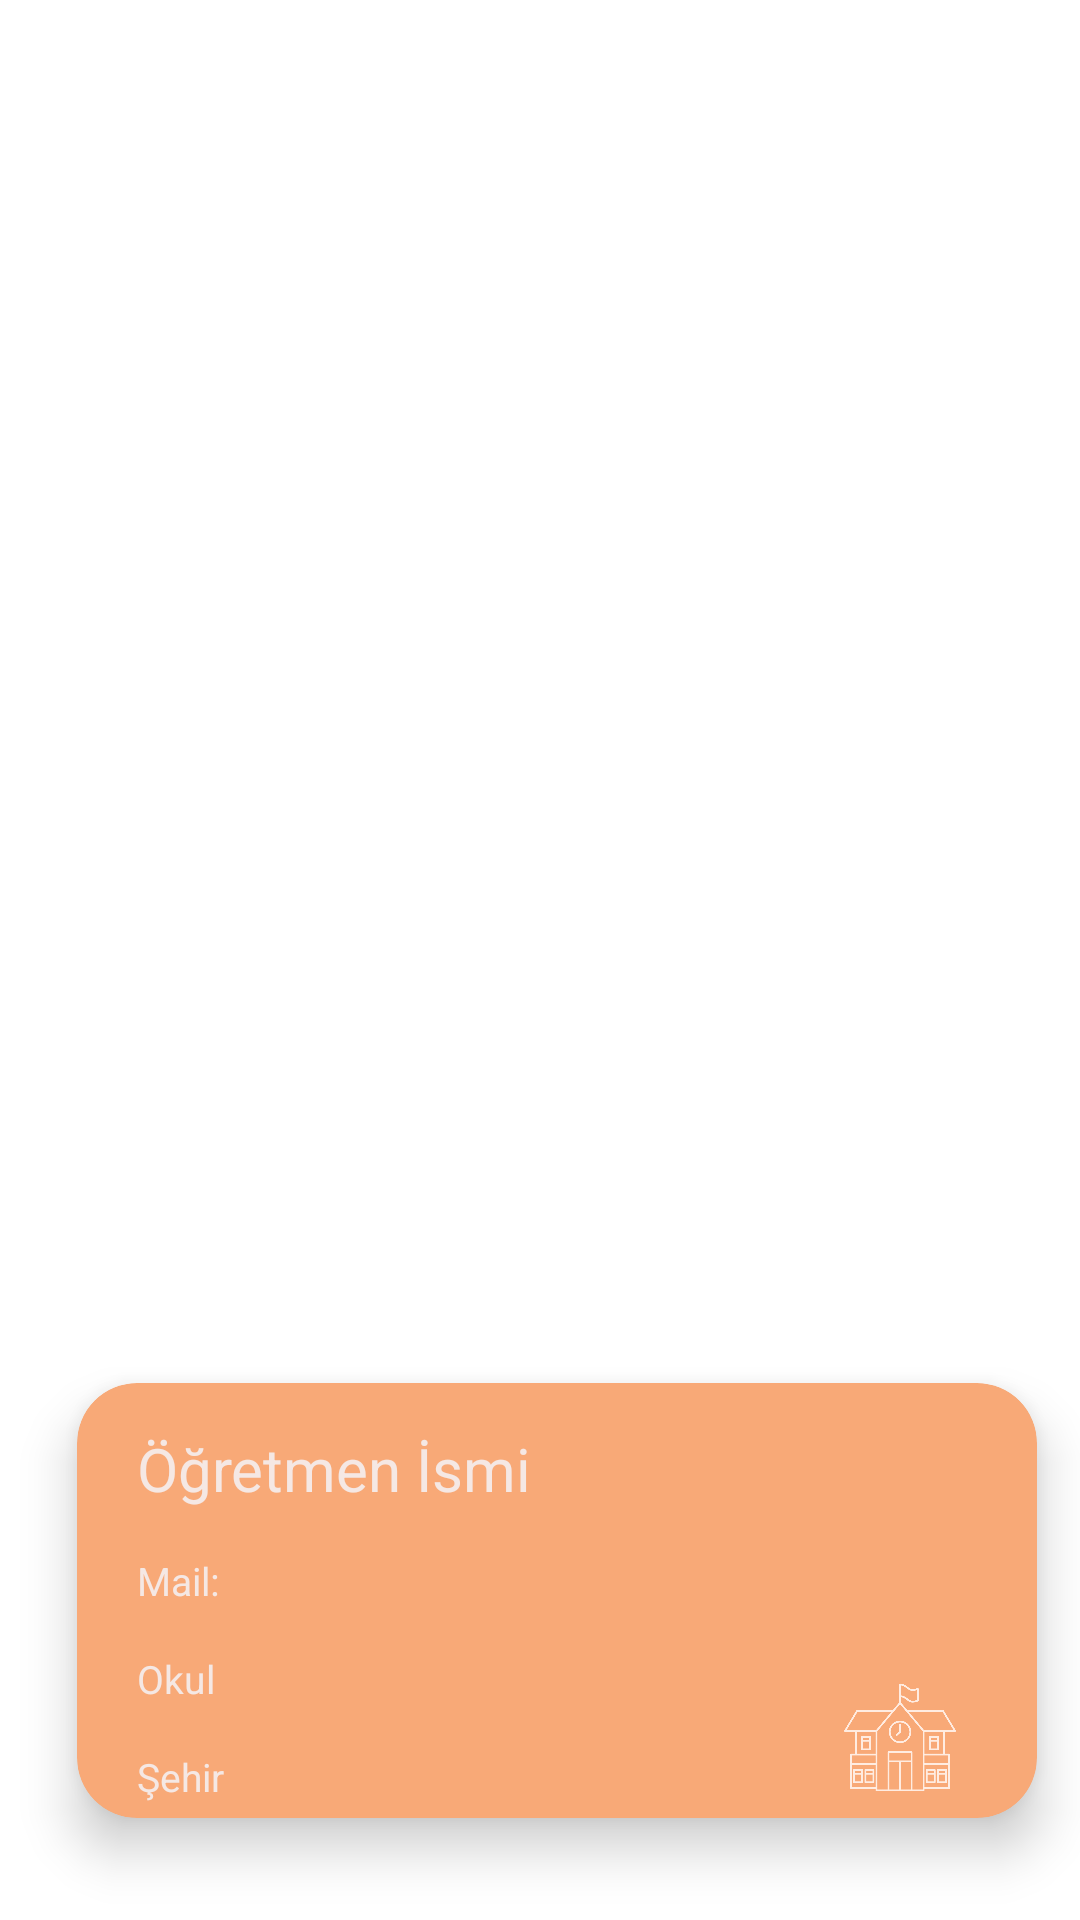

Named icons in this screenshot (1080w x 1920h) and their bounding boxes, (x1, y1, x2, y2):
school: (844, 1684, 956, 1791)
